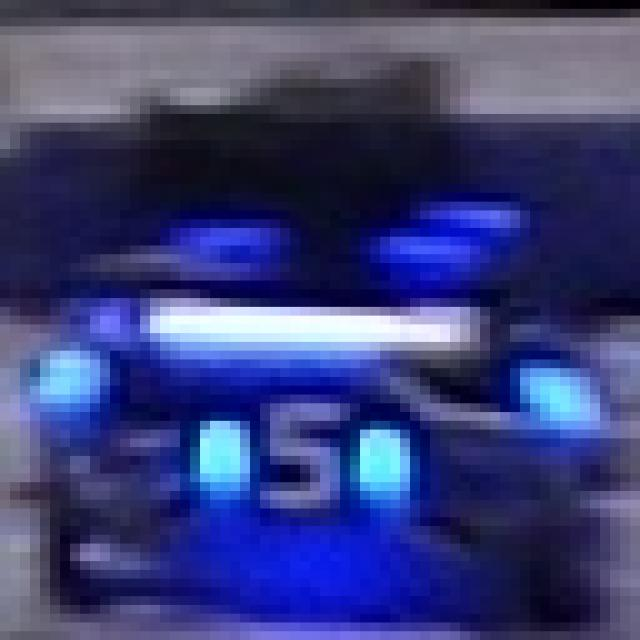B5: (170, 373, 410, 504)
